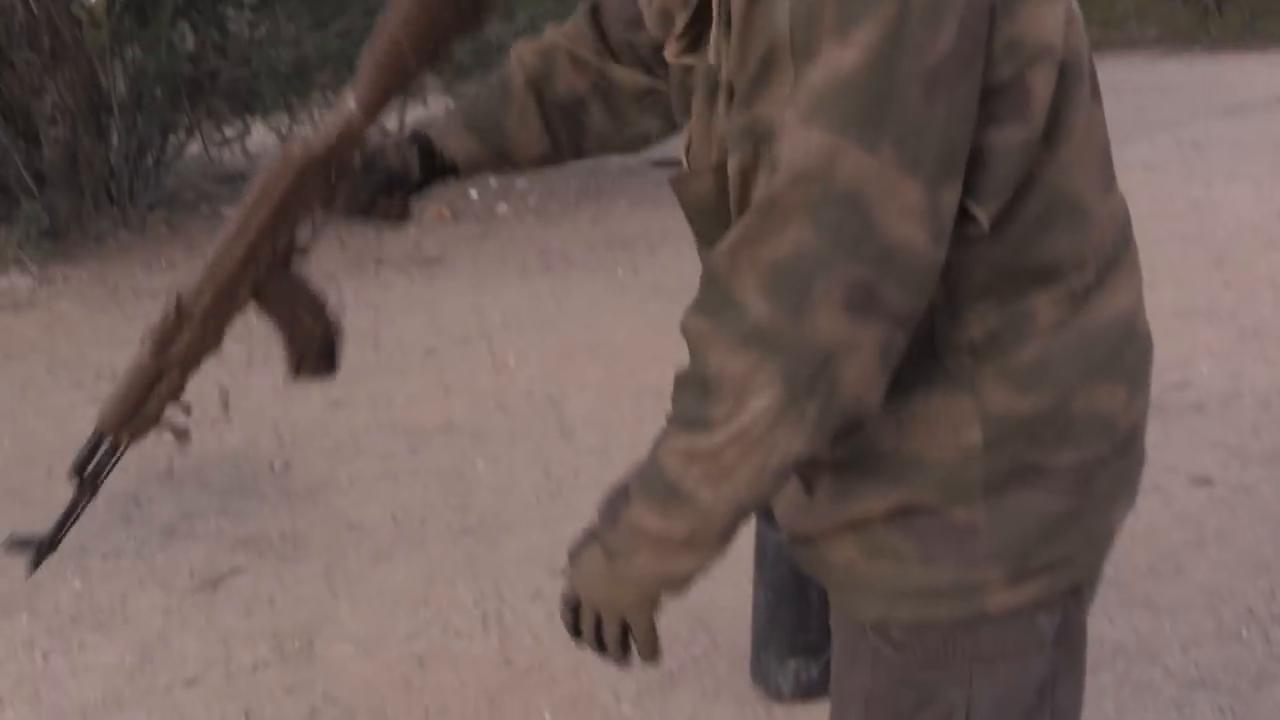AK47 Rifle: (5, 1, 475, 587)
